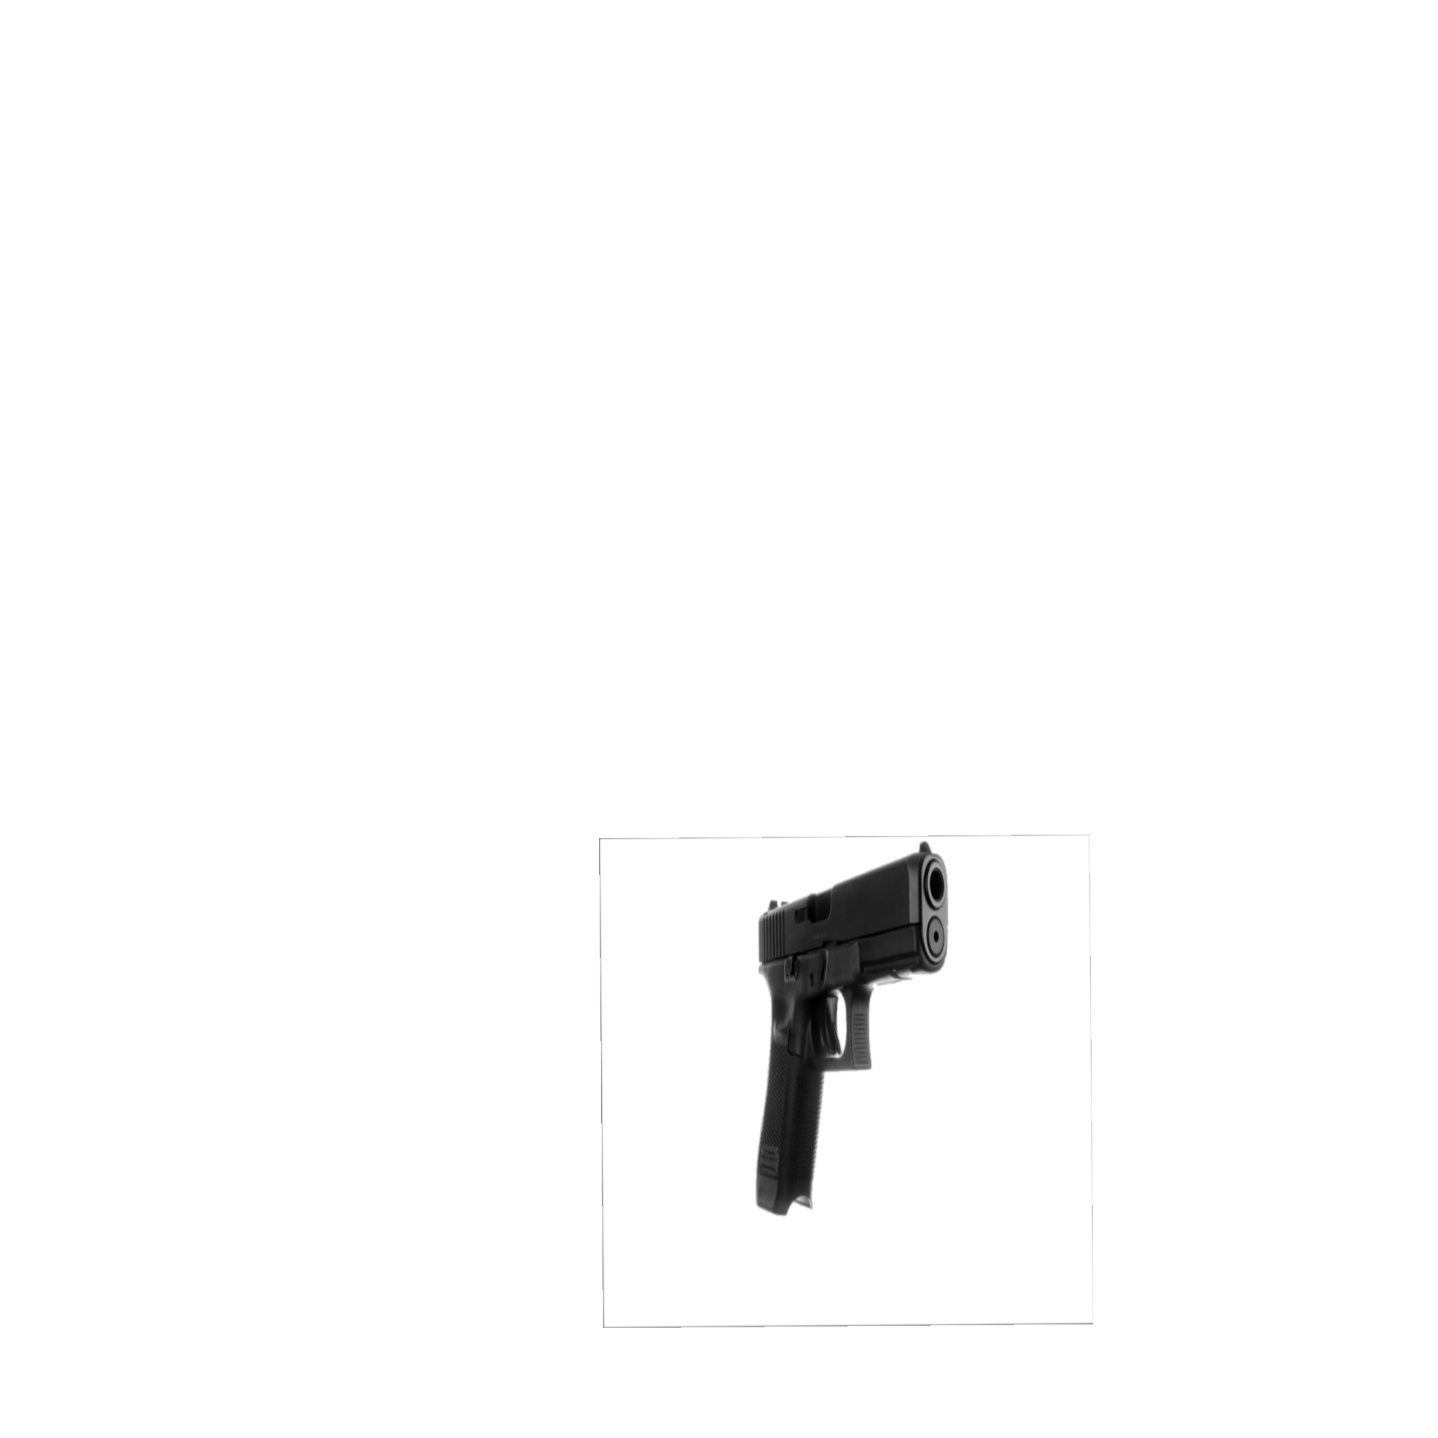gun: (757, 838, 949, 1219)
